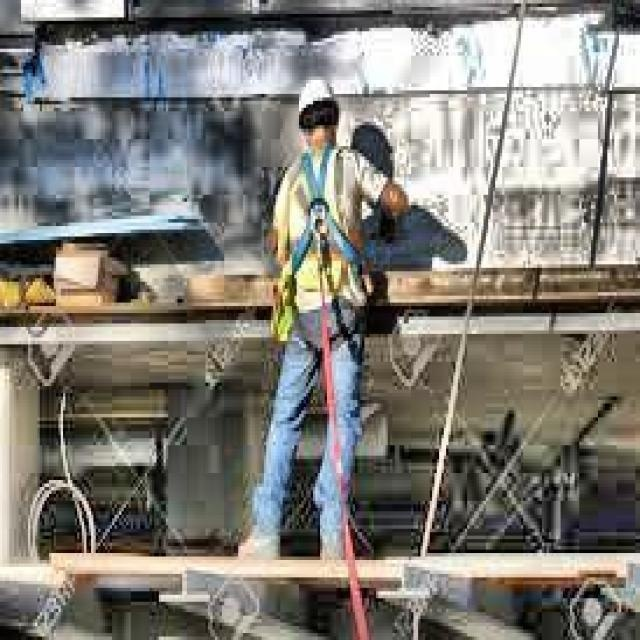Arnes_seguridad: (286, 143, 365, 333)
